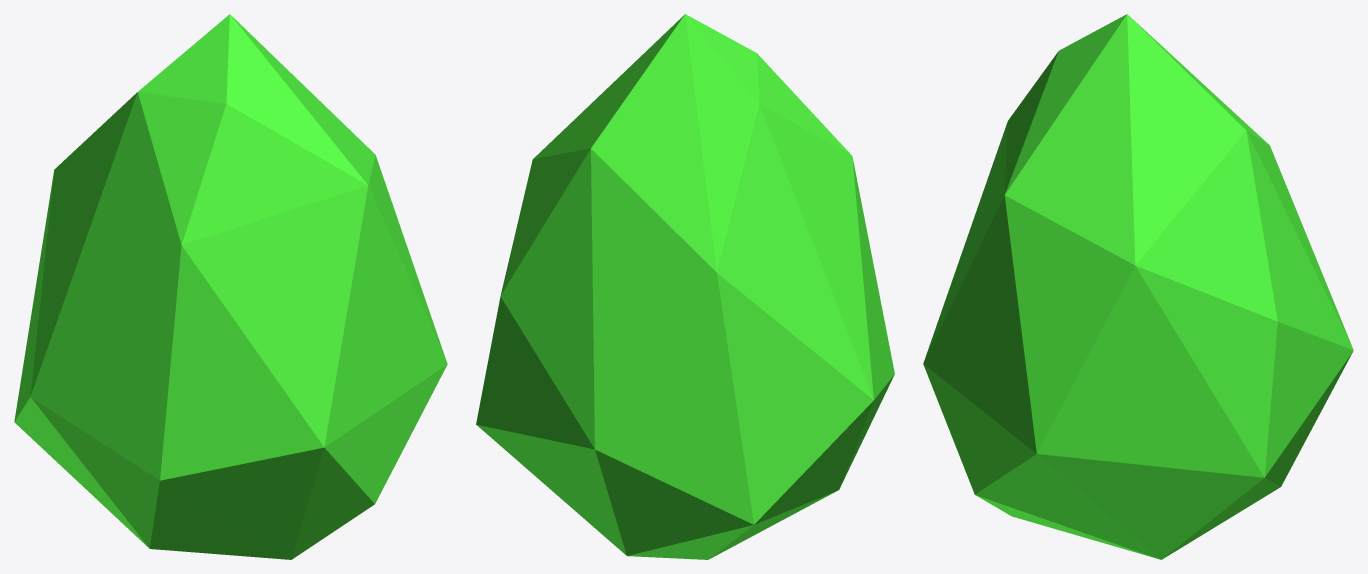
The picture shows the model from 3 angles, left to right: view 1: azimuth 30°, elevation 25°; view 2: azimuth 150°, elevation 25°; view 3: azimuth 270°, elevation 25°; orthographic projection.
Visible parts, largest first — view 1: Sphere.007; view 2: Sphere.007; view 3: Sphere.007.
Boxes of the visible parts, x1,y1,x2,y2 form: Sphere.007: (14,14,447,559); Sphere.007: (476,14,894,559); Sphere.007: (923,14,1353,559).
Size of the model in its own units: 1.11 by 1.53 by 1.14.
